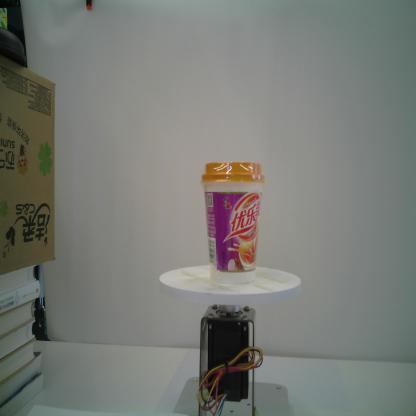Instant Drink: (202, 162, 265, 284)
